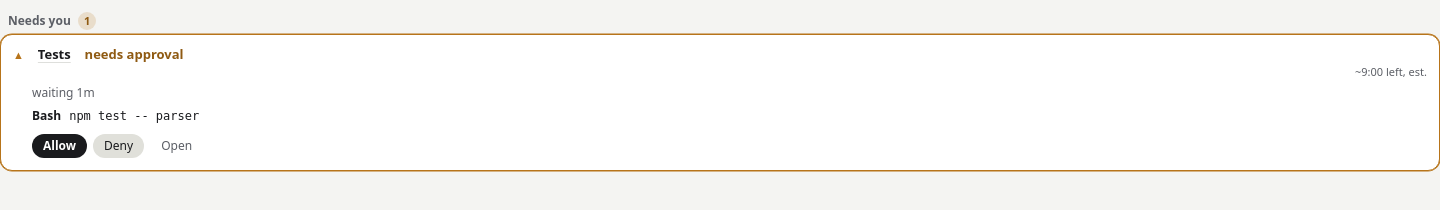
Test: Needs you: compact cards › A allows, D denies (no note), O opens the full card and shows the agent; Show less goes back
Press a in the button "Tests", box 32,45 -> 77,64
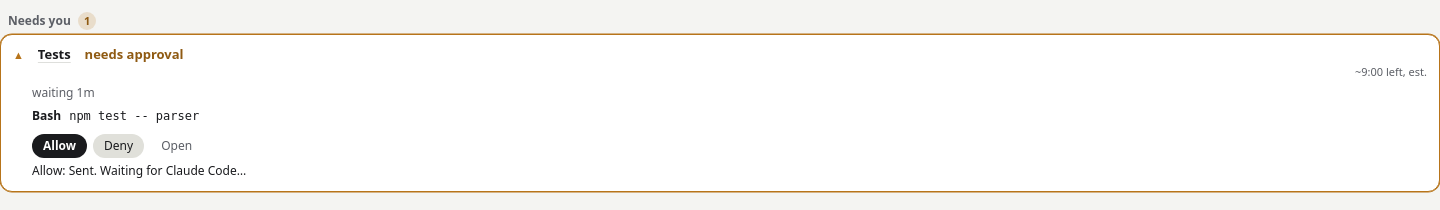
Press d in the button "Tests", box 32,45 -> 77,64
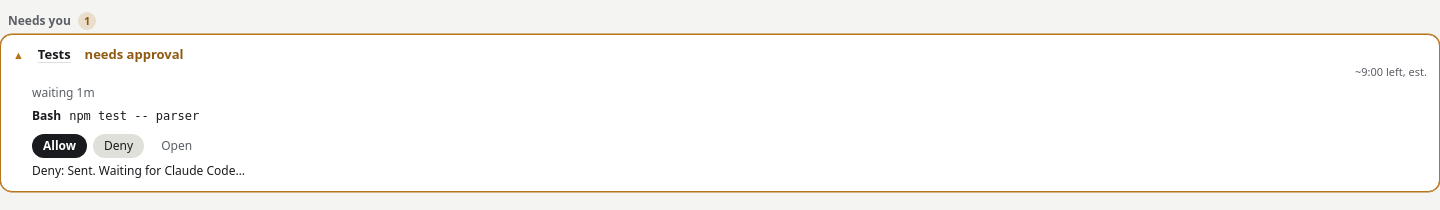
Press o in the button "Tests", box 32,45 -> 77,64
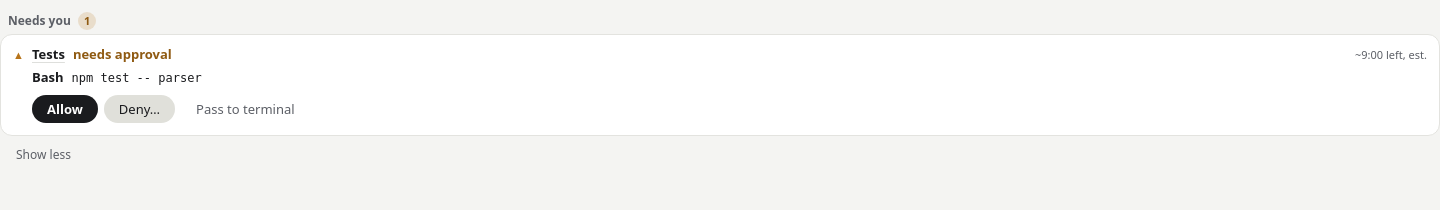
Expected: the button "Pass to terminal" is shown, 181,95 -> 310,123
Expected: the element with class "need-card" is gone
Click the button "Show less" at (43, 155), box 8,144 -> 79,166
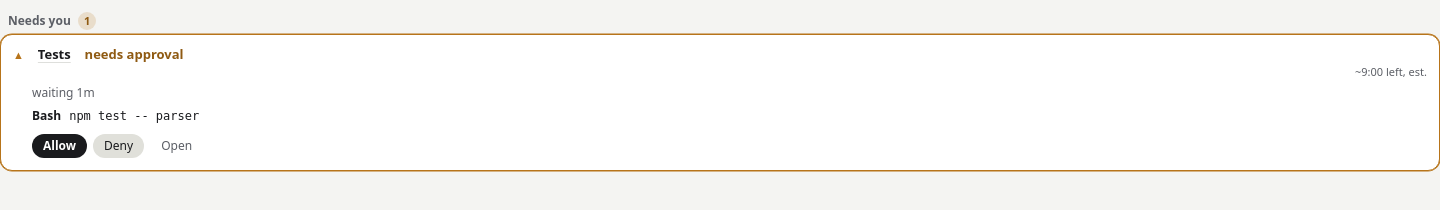
Expected: the element with class "need-card" is shown
